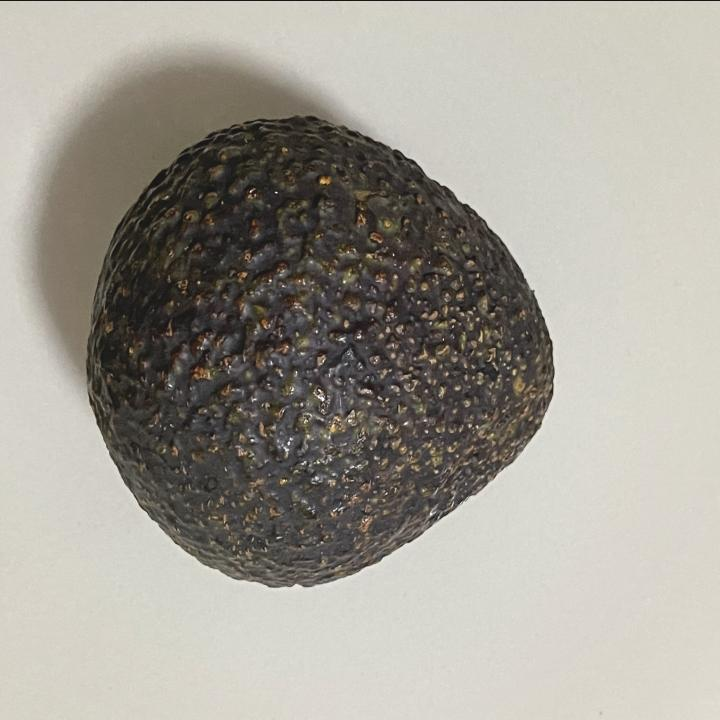Level1: (65, 100, 563, 600)
